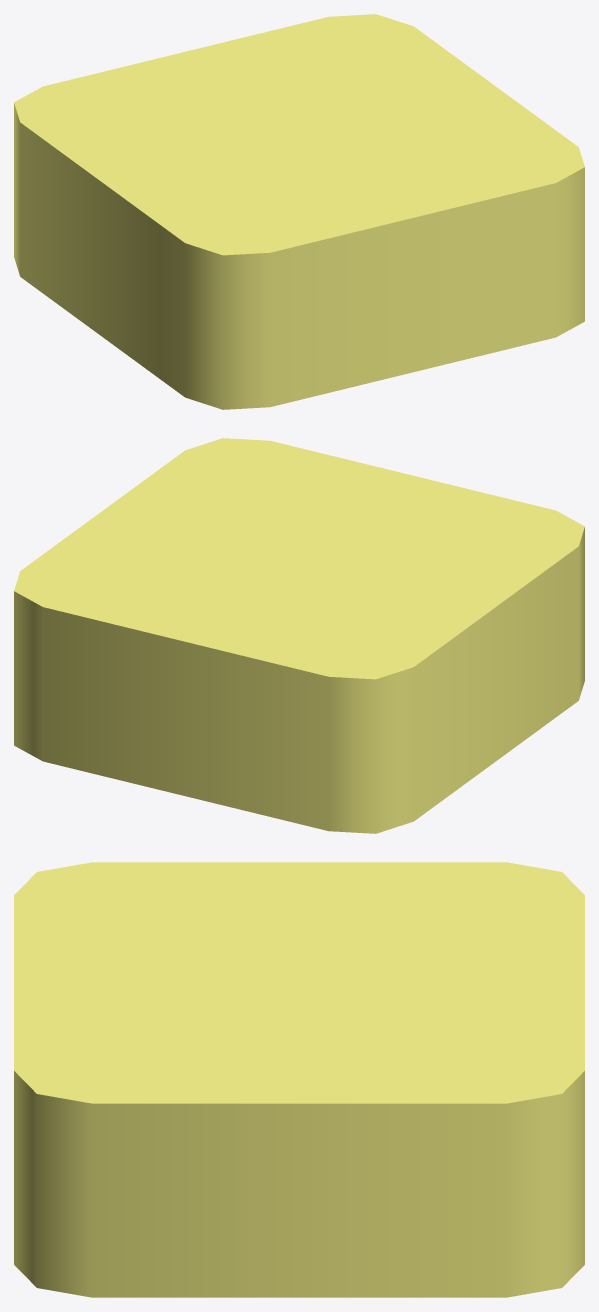
File: arenaF.fbx
3 renders of one model, top to bottom at view 1: azimuth 30°, elevation 25°; view 2: azimuth 150°, elevation 25°; view 3: azimuth 270°, elevation 25°, orthographic. The views are drawn at different scales.
Visible parts, largest first — view 1: 2san; view 2: 2san; view 3: 2san.
Boxes of the visible parts, left/top/right/bottom form: 2san: left=14, top=14, right=584, bottom=409; 2san: left=14, top=438, right=584, bottom=833; 2san: left=14, top=862, right=584, bottom=1297.
Size of the model in its own units: 200 by 75 by 200.
